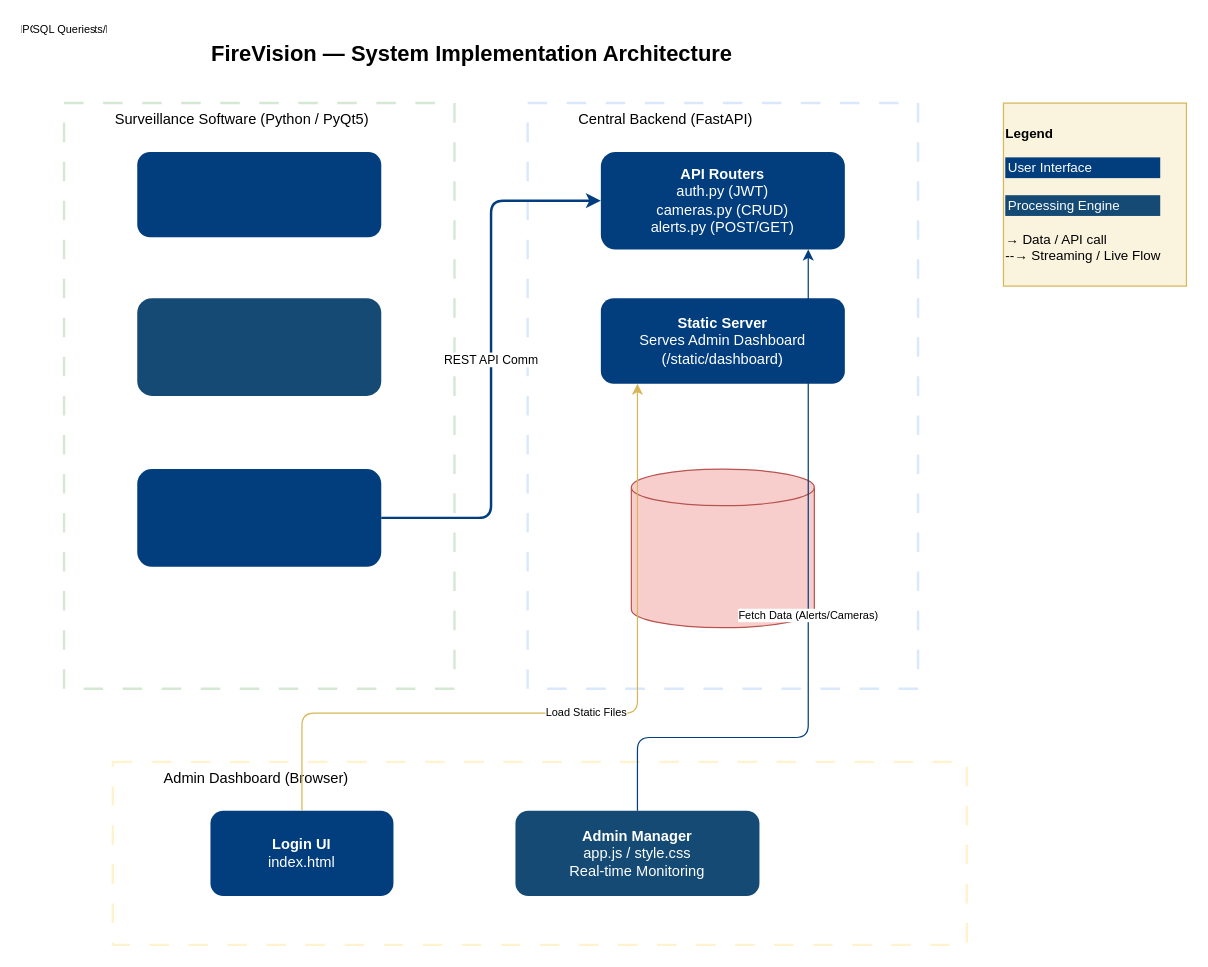
Image size: 1208x967. Some labels were removed from this diagram. The shapes that lost their labels are listed below. From the top down, each one's centre as x and y in pixels, then its label:
At point (259, 194): "Main Dashboard UI main.py / ui_components.py Live Grids, Camera Controls".
At point (259, 346): "Detection Engine (YOLO) detect.py Real-time Inference (Fire / Smoke)".
At point (259, 517): "Backend Client backend_client.py REST Integration Auth Token Storage".
At point (722, 548): "Core Database (MySQL) models.py / database.py Tables: Users, Cameras, Alerts".
